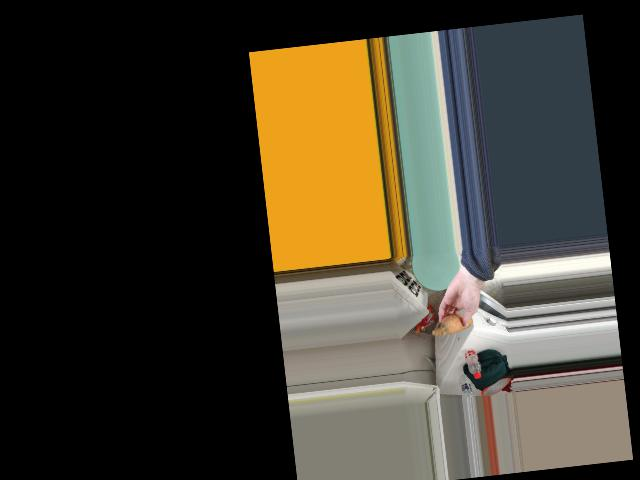sweet_potato: (438, 314, 471, 335)
